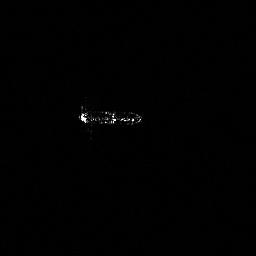ship: (81, 110, 141, 126)
